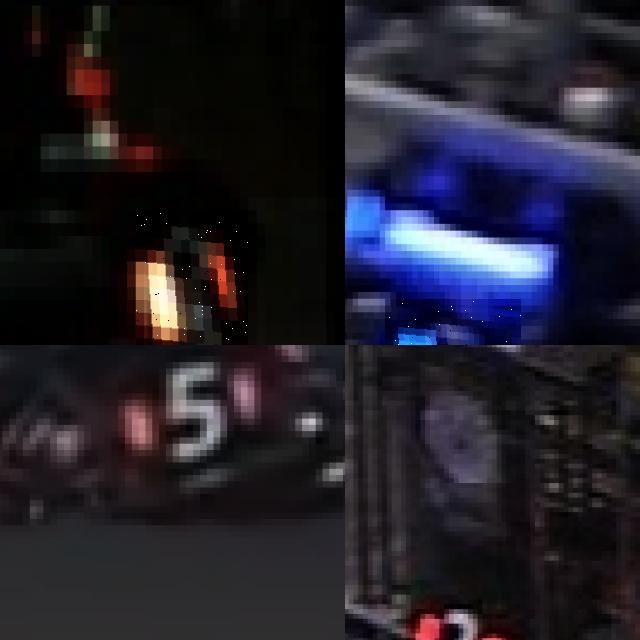B2: (385, 298, 520, 345)
R2: (410, 604, 511, 640)
R5: (132, 356, 254, 450)
Rs: (135, 210, 248, 345)
